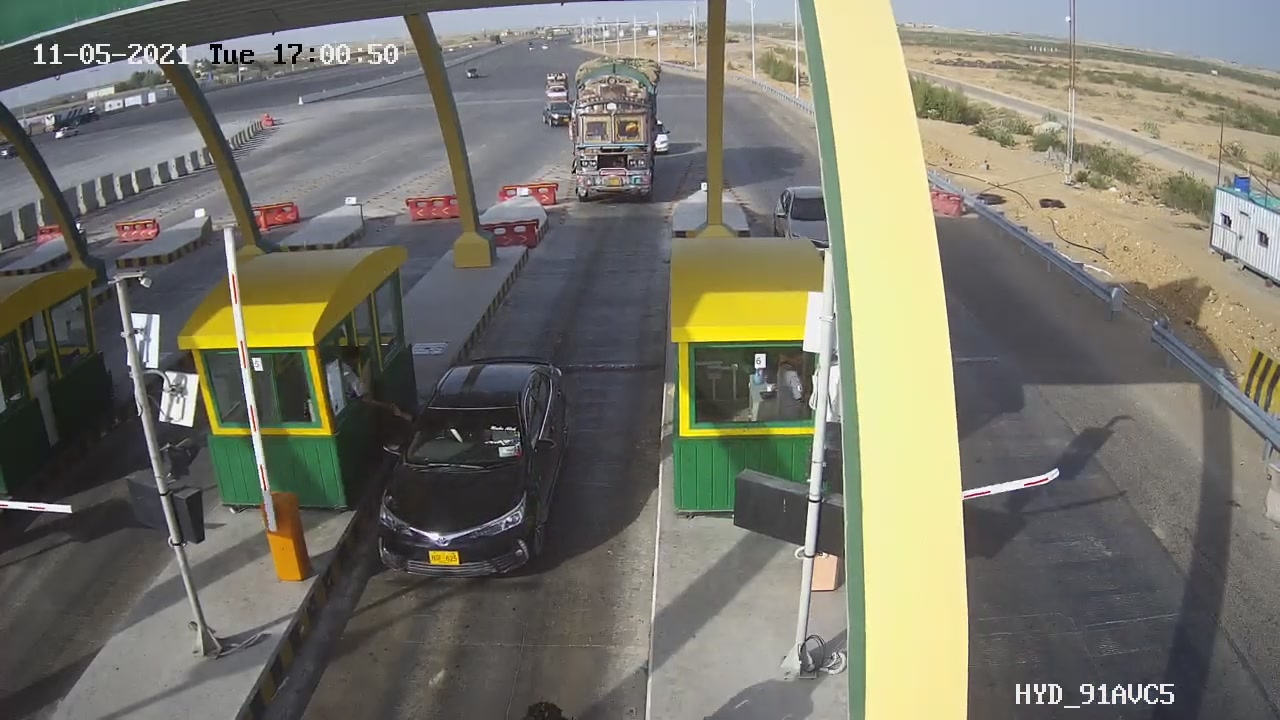F1: (366, 346, 587, 607)
